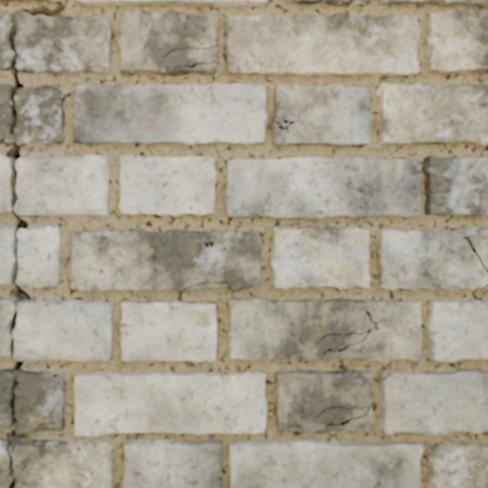brick: (223, 13, 419, 76), (74, 372, 266, 436), (229, 299, 421, 361), (70, 229, 261, 291), (226, 157, 420, 218), (74, 84, 266, 144), (228, 439, 422, 487), (379, 369, 487, 434), (377, 228, 487, 289), (378, 84, 487, 144), (119, 11, 217, 75), (275, 370, 374, 433), (271, 85, 372, 146), (271, 227, 369, 288), (121, 300, 215, 361), (120, 155, 215, 215), (123, 440, 220, 487), (425, 9, 487, 74), (423, 156, 487, 216), (425, 300, 487, 360), (426, 441, 487, 487), (76, 0, 265, 5), (379, 0, 487, 6), (275, 0, 371, 4), (18, 0, 63, 1)
broken_brick: (13, 299, 112, 361), (14, 12, 111, 74), (15, 155, 109, 216), (11, 439, 112, 487), (15, 369, 65, 433), (15, 84, 64, 146), (18, 225, 60, 289), (0, 297, 15, 357), (0, 223, 13, 285), (0, 368, 13, 430), (0, 82, 12, 143), (0, 10, 11, 71), (0, 153, 11, 213), (0, 436, 10, 487)
crack: (1, 0, 67, 487), (316, 401, 373, 429), (272, 104, 308, 133), (462, 234, 487, 272), (36, 403, 64, 430), (163, 44, 216, 57), (171, 59, 215, 73), (180, 280, 226, 291), (72, 97, 78, 104), (66, 212, 84, 214), (408, 45, 416, 49), (52, 373, 58, 377), (482, 284, 487, 288), (57, 140, 61, 144)
